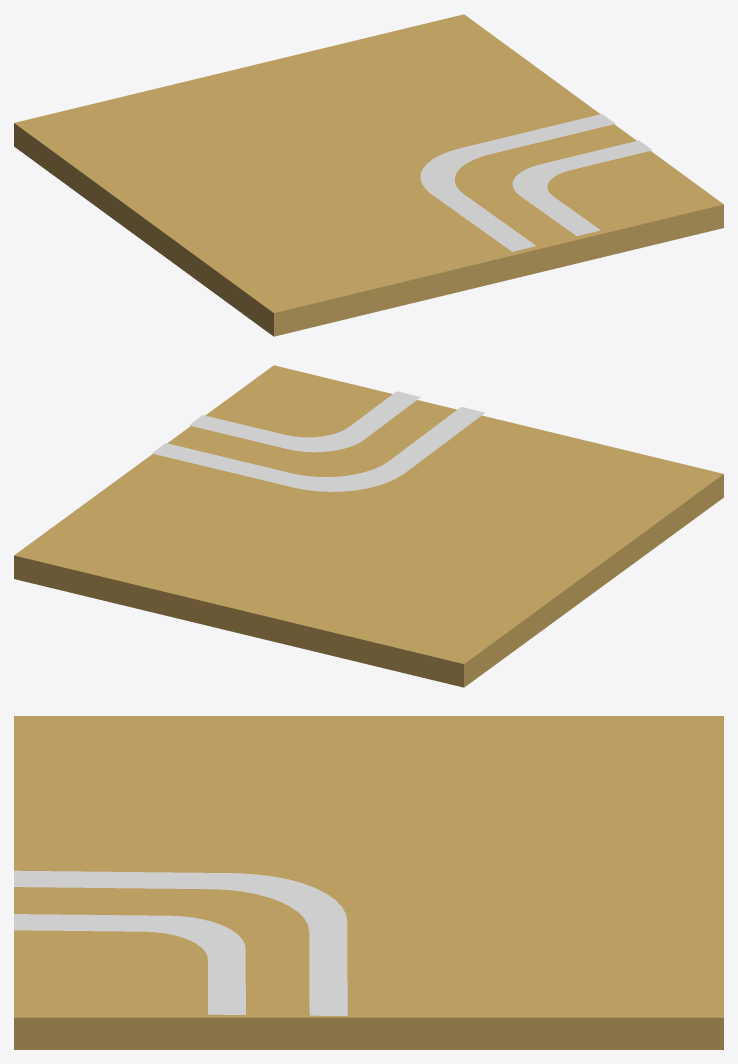
The model's file is tile_corner_test.fbx.
3 views of the same model, one above another, from view 1: azimuth 30°, elevation 25°; view 2: azimuth 150°, elevation 25°; view 3: azimuth 270°, elevation 25° (orthographic). The views are drawn at different scales.
Visible parts, largest first — view 1: Plane.015; view 2: Plane.015; view 3: Plane.015.
Boxes of the visible parts, bbox=[...] form: Plane.015: bbox=[14, 14, 723, 336]; Plane.015: bbox=[14, 365, 723, 687]; Plane.015: bbox=[14, 716, 723, 1049].
Bounding box in the file's own units: 100 × 5.91 × 100.
